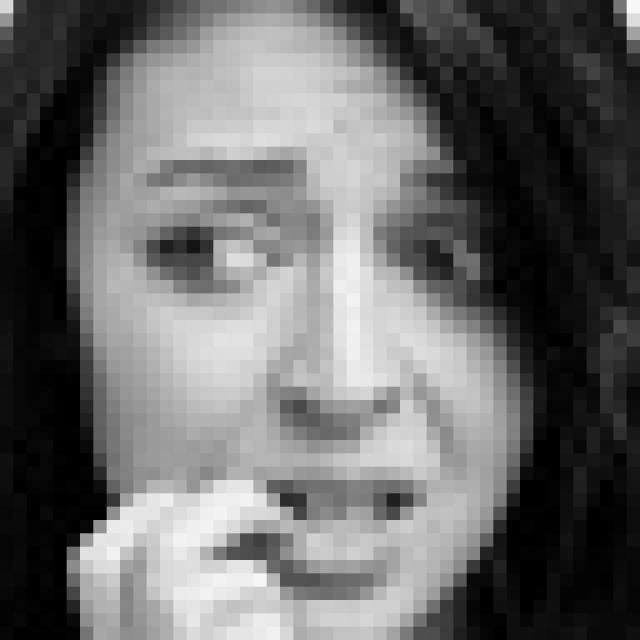fear: (128, 148, 502, 605)
